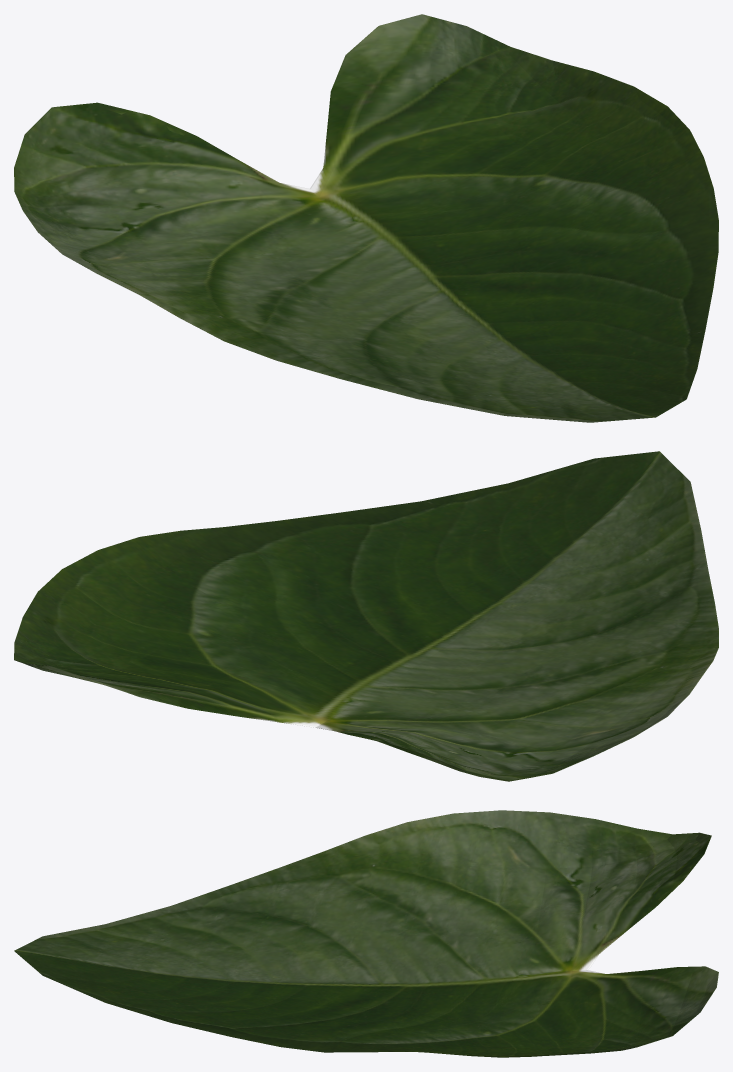
File: flower_火鹤花_叶.fbx
3 renders of one model, top to bottom at view 1: azimuth 30°, elevation 25°; view 2: azimuth 150°, elevation 25°; view 3: azimuth 270°, elevation 25°, orthographic. The views are drawn at different scales.
Parts seen in each view (by area): view 1: 圆环; view 2: 圆环; view 3: 圆环.
Part boxes in pixels (bbox=[...]): 圆环: bbox=[14, 14, 718, 422]; 圆环: bbox=[14, 451, 718, 781]; 圆环: bbox=[14, 810, 718, 1057].
Bounding box in the file's own units: 0.8312 × 0.1144 × 1.01.
1 material, 1 textured.
